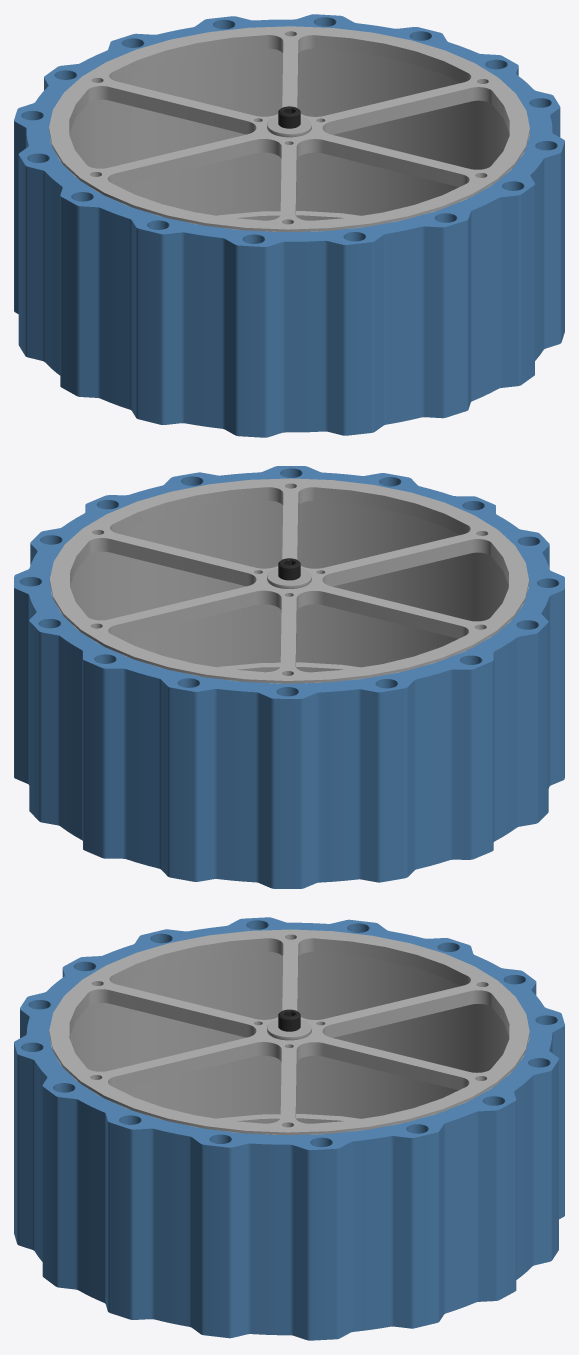
File: rover_left_wheel.glb
3 views of the same model, one above another, from view 1: azimuth 30°, elevation 25°; view 2: azimuth 150°, elevation 25°; view 3: azimuth 270°, elevation 25° (orthographic).
Parts seen in each view (by area): view 1: 098057_A;1-1_4-20 X 3_4 Bolt.010; view 2: 098057_A;1-1_4-20 X 3_4 Bolt.010; view 3: 098057_A;1-1_4-20 X 3_4 Bolt.010.
Boxes of the visible parts, x1,y1,x2,y2 form: 098057_A;1-1_4-20 X 3_4 Bolt.010: (14, 14, 564, 437); 098057_A;1-1_4-20 X 3_4 Bolt.010: (14, 466, 564, 888); 098057_A;1-1_4-20 X 3_4 Bolt.010: (14, 917, 564, 1340).
Size of the model in its own units: 23.3 by 9.95 by 23.3.
